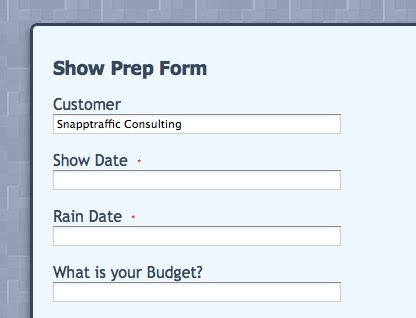_form_: (1, 1, 416, 318)
field: (51, 112, 342, 135), (51, 168, 342, 191), (51, 224, 342, 247), (52, 280, 342, 303)
field_with_label: (50, 264, 343, 304), (49, 97, 343, 136), (50, 153, 343, 192), (50, 210, 343, 248)
